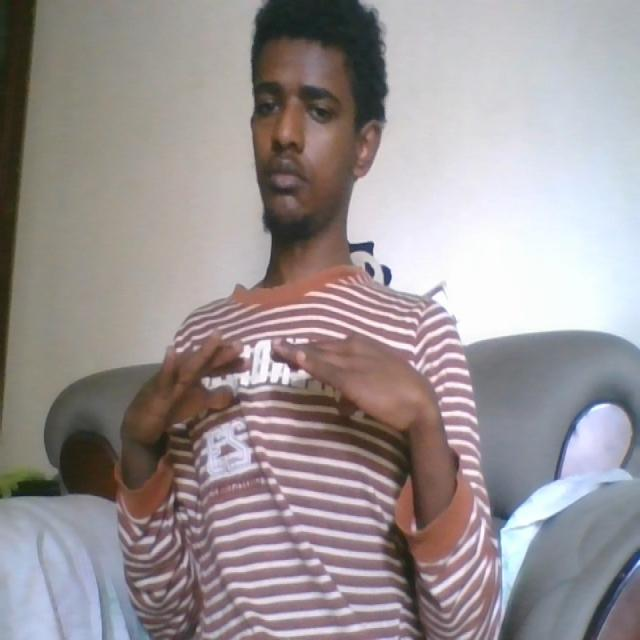meznanat: (136, 339, 427, 434)
